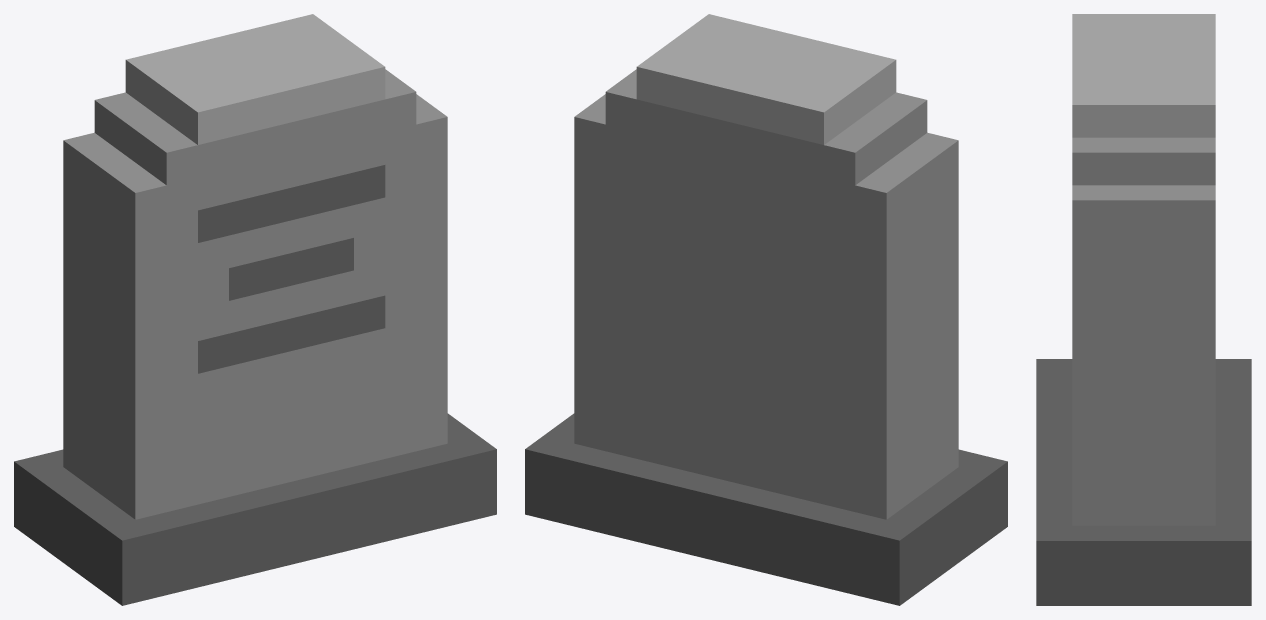
File: heap_TOMB.glb
3 views of the same model, side by side, from view 1: azimuth 30°, elevation 25°; view 2: azimuth 150°, elevation 25°; view 3: azimuth 270°, elevation 25° (orthographic).
Parts seen in each view (by area): view 1: item_HEAP_TOMB; view 2: item_HEAP_TOMB; view 3: item_HEAP_TOMB.
Boxes of the visible parts, bbox=[...] form: item_HEAP_TOMB: bbox=[14, 14, 496, 605]; item_HEAP_TOMB: bbox=[525, 14, 1007, 605]; item_HEAP_TOMB: bbox=[1036, 14, 1251, 605].
Bounding box in the file's own units: 0.2727 × 0.3182 × 0.1364.
Materials: 1 (1 with a texture image).
